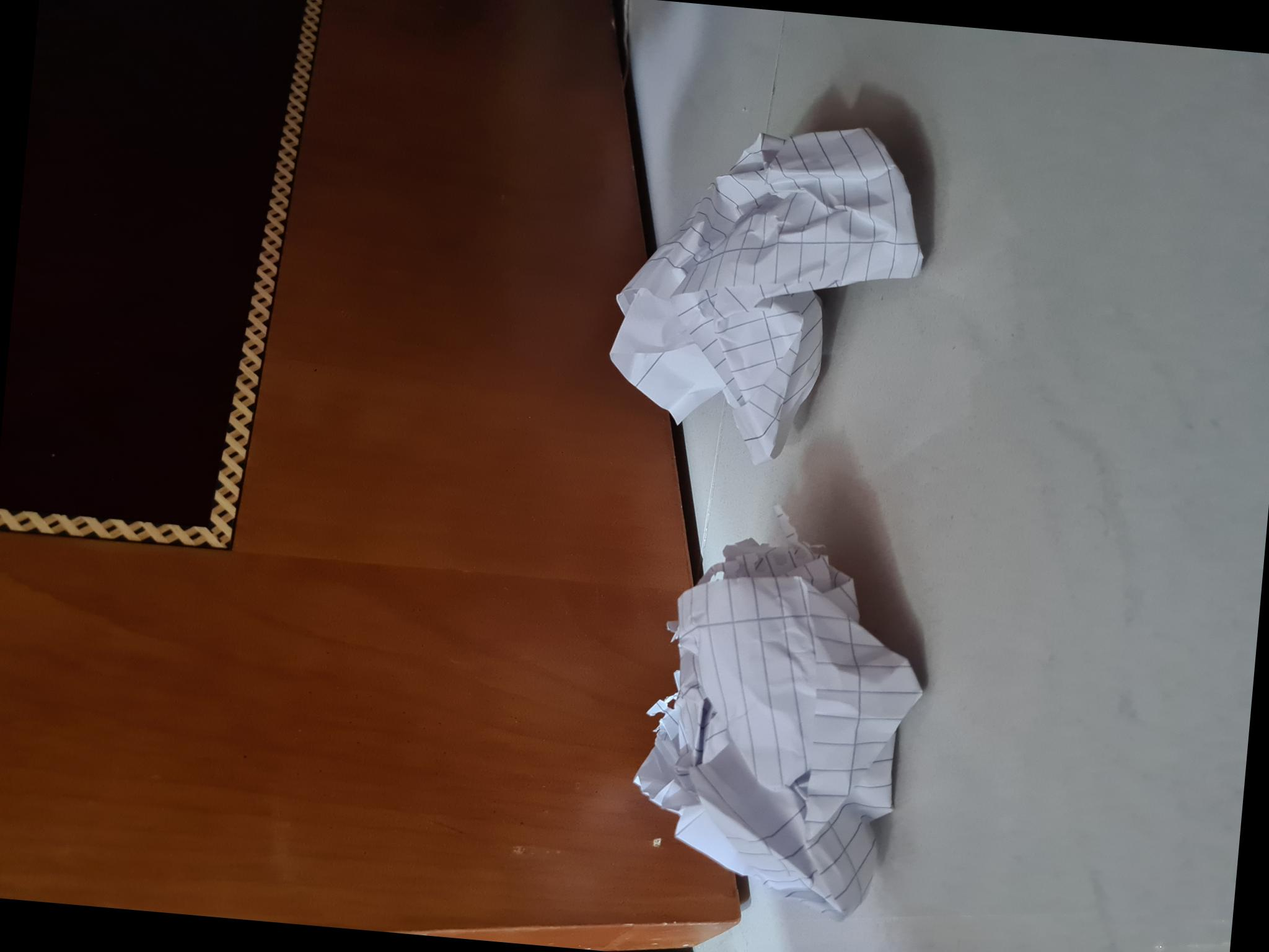Kertas: (459, 579, 827, 923), (4, 623, 394, 921)
